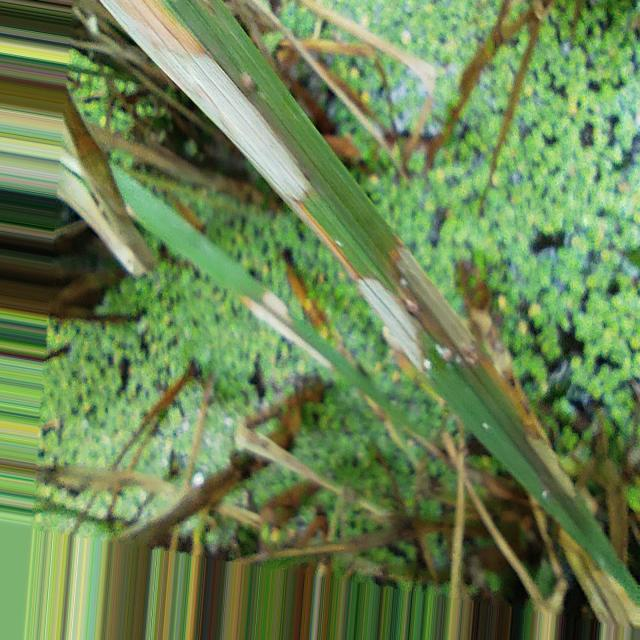Leaf_Blast: (465, 478, 568, 613), (450, 428, 465, 598)
Rice False Smut: (131, 1, 310, 202), (394, 242, 491, 376), (356, 277, 431, 372), (242, 297, 332, 368), (526, 436, 575, 496), (261, 290, 289, 320)
